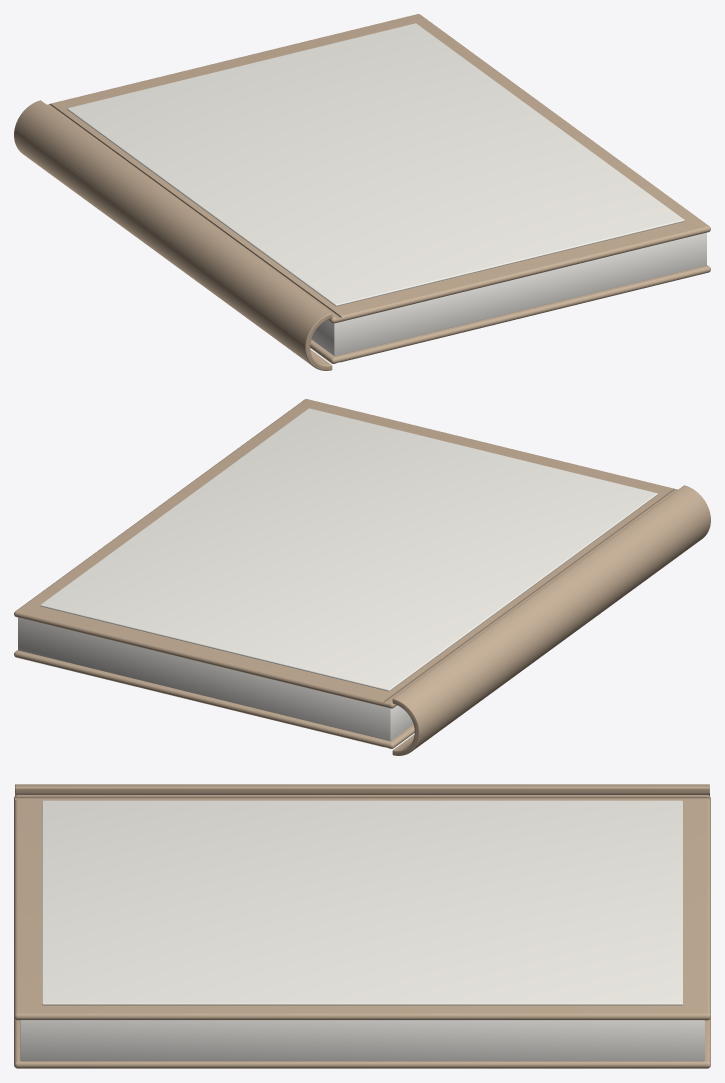
Rendered from laser--portrait.glb.
3 renders of one model, top to bottom at view 1: azimuth 30°, elevation 25°; view 2: azimuth 150°, elevation 25°; view 3: azimuth 270°, elevation 25°, orthographic. The views are drawn at different scales.
Visible parts, largest first — view 1: Band, Spine, CoverFront, Pages, CoverBack; view 2: Band, Spine, CoverFront, Pages, CoverBack; view 3: Band, Pages, CoverFront, Spine, CoverBack.
Boxes of the visible parts, left/top/right/bottom form: Band: left=67, top=23, right=684, bottom=306; Spine: left=14, top=100, right=332, bottom=370; CoverFront: left=47, top=14, right=710, bottom=323; Pages: left=311, top=232, right=706, bottom=356; CoverBack: left=310, top=265, right=710, bottom=363; Band: left=40, top=408, right=657, bottom=691; Spine: left=392, top=485, right=710, bottom=755; CoverFront: left=14, top=399, right=677, bottom=708; Pages: left=18, top=617, right=413, bottom=741; CoverBack: left=14, top=650, right=414, bottom=748; Band: left=42, top=800, right=682, bottom=1005; Pages: left=20, top=1020, right=704, bottom=1061; CoverFront: left=14, top=795, right=710, bottom=1020; Spine: left=15, top=784, right=709, bottom=795; CoverBack: left=14, top=1018, right=710, bottom=1068.
Size of the model in its own units: 0.3208 by 0.043 by 0.4.
